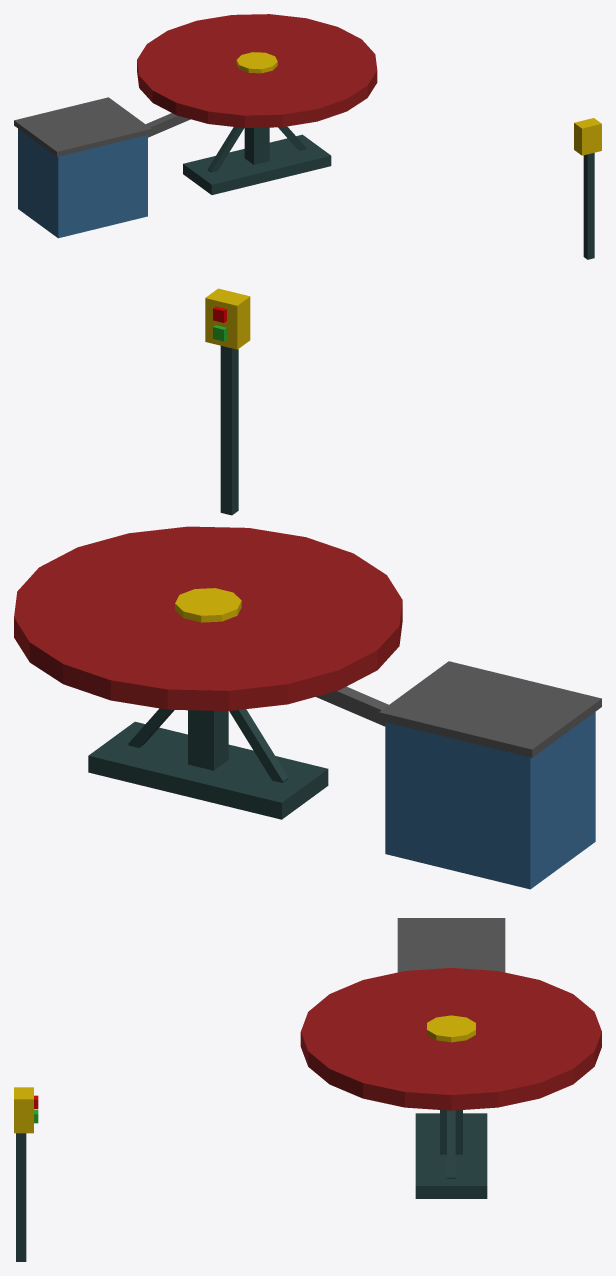
Rendered from rope_tow_base.obj.
3 views of the same model, one above another, from view 1: azimuth 30°, elevation 25°; view 2: azimuth 150°, elevation 25°; view 3: azimuth 270°, elevation 25° (orthographic). The views are drawn at different scales.
Bounding box in the file's own units: 3.92 × 1.28 × 4.1.
